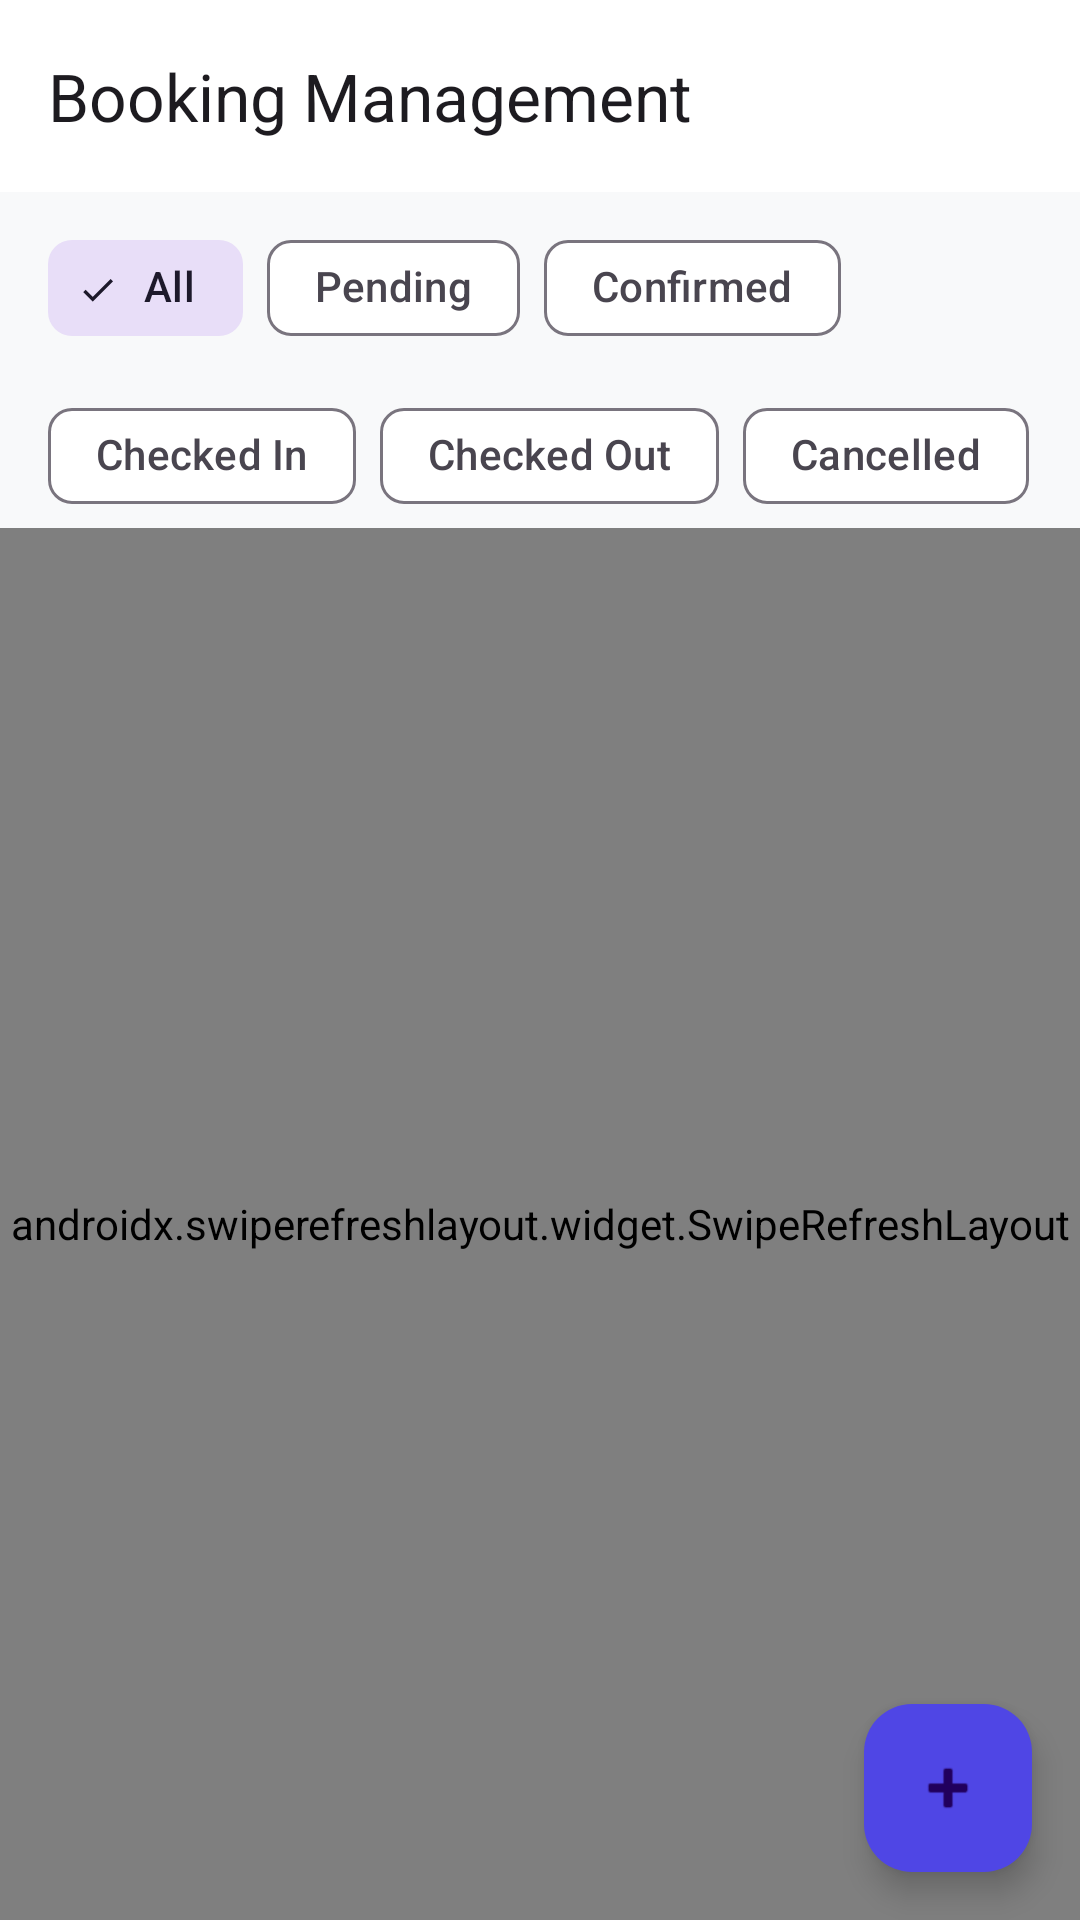

Locate icon controls on the screen. Image size 1080*1920, boxes as bbox=[x1, y1, x2, y2].
Create walk-in booking: bbox=[864, 1704, 1032, 1872]
